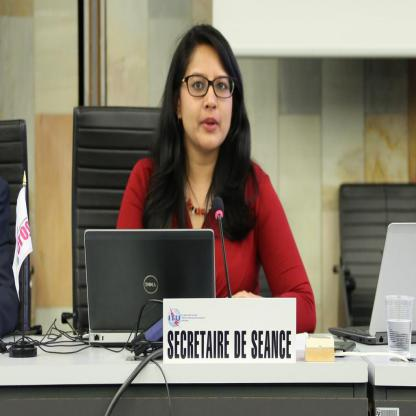board: (76, 233, 220, 353), (328, 223, 416, 344)
